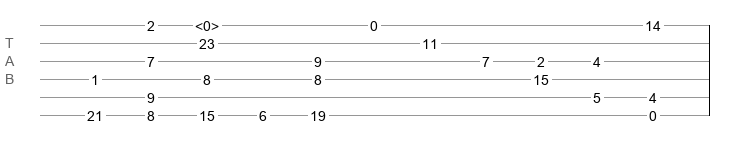0: (370, 18, 378, 28), (649, 108, 657, 118)
1: (91, 72, 99, 82)
11: (422, 36, 438, 46)
14: (645, 18, 661, 28)
15: (199, 108, 215, 118), (533, 72, 549, 82)
19: (310, 108, 326, 118)
2: (147, 18, 155, 28), (537, 54, 545, 64)
21: (87, 108, 103, 118)
23: (199, 36, 215, 46)
4: (593, 54, 601, 64), (649, 90, 657, 100)
5: (593, 90, 601, 100)
6: (259, 108, 267, 118)
7: (147, 54, 155, 64), (482, 54, 490, 64)
8: (147, 108, 155, 118), (203, 72, 211, 82), (314, 72, 322, 82)
9: (147, 90, 155, 100), (314, 54, 322, 64)
harmonic: (195, 18, 219, 28)
